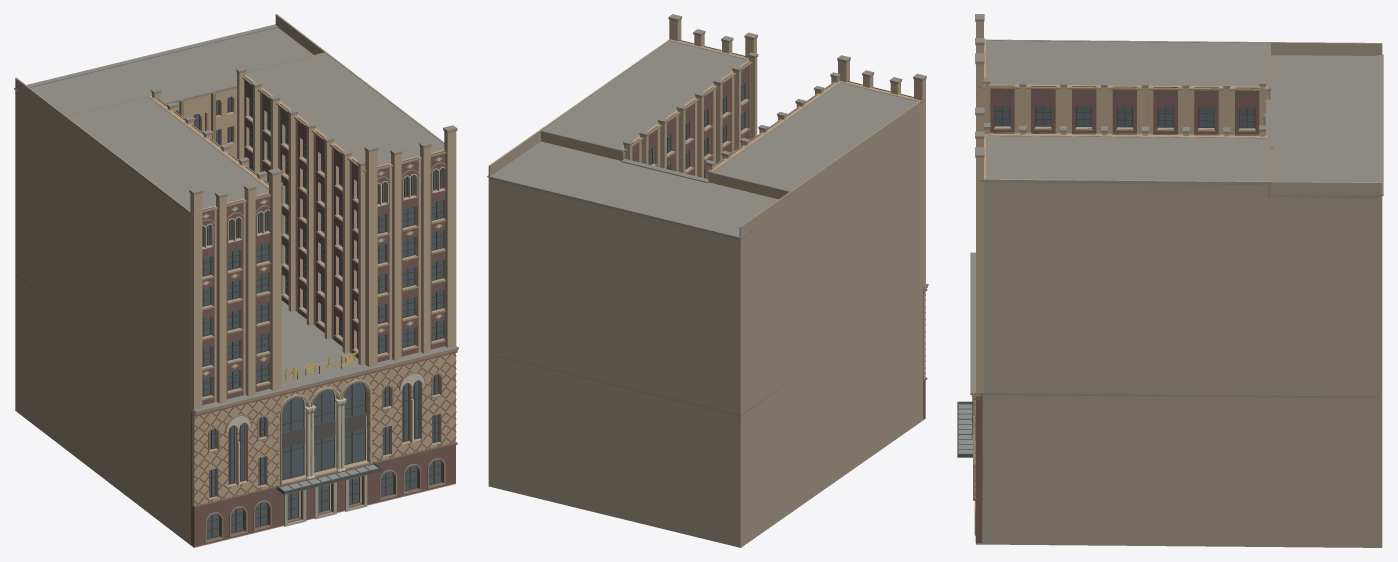
File: huangpu-foreign-ymca-lod.glb
3 views of the same model, side by side, from view 1: azimuth 30°, elevation 25°; view 2: azimuth 150°, elevation 25°; view 3: azimuth 270°, elevation 25° (orthographic). The views are drawn at different scales.
Visible parts, largest first — view 1: 西侨青年会（上海体育大厦临街主楼）; view 2: 西侨青年会（上海体育大厦临街主楼）; view 3: 西侨青年会（上海体育大厦临街主楼）.
Part boxes in pixels (<box>): 西侨青年会（上海体育大厦临街主楼）: <box>14,14,458,547</box>; 西侨青年会（上海体育大厦临街主楼）: <box>487,14,928,547</box>; 西侨青年会（上海体育大厦临街主楼）: <box>957,14,1383,547</box>.
Bounding box in the file's own units: 27.72 × 34.91 × 34.61.
